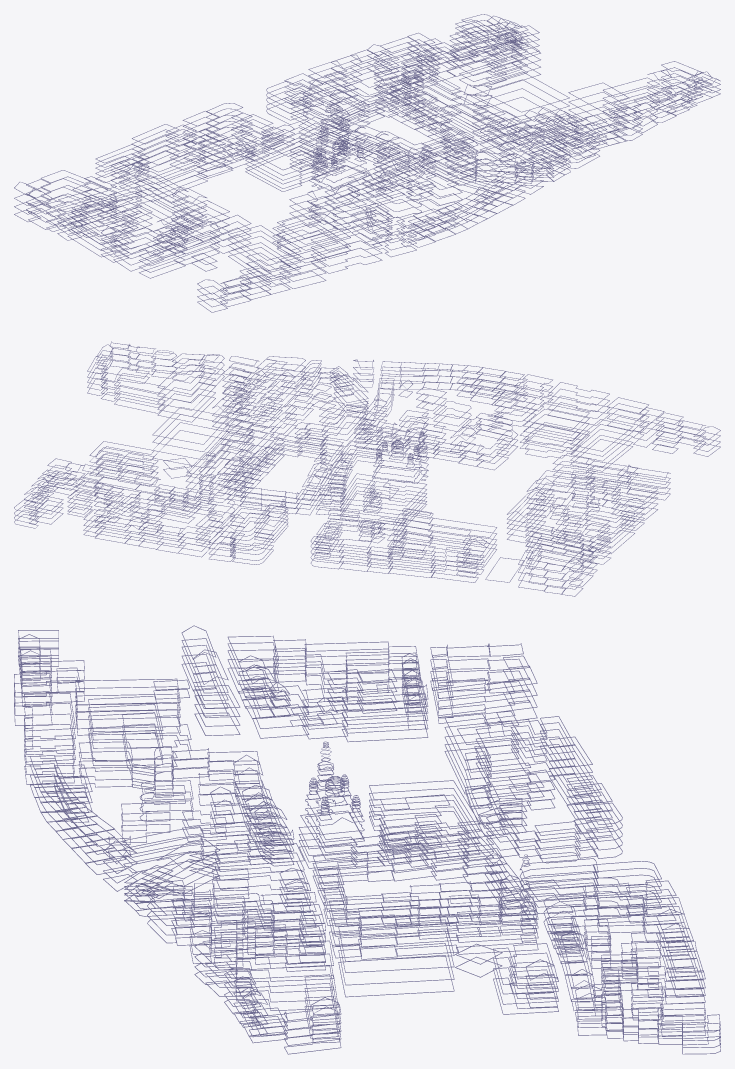
File: Sa_Ferhadija_Wireframe.fbx
3 renders of one model, top to bottom at view 1: azimuth 30°, elevation 25°; view 2: azimuth 150°, elevation 25°; view 3: azimuth 270°, elevation 25°, orthographic. The views are drawn at different scales.
Parts seen in each view (by area): view 1: Sa_Ferhadija_Wireframe; view 2: Sa_Ferhadija_Wireframe; view 3: Sa_Ferhadija_Wireframe.
Part boxes in pixels (x1,y1,x2,y2): Sa_Ferhadija_Wireframe: (14,14,720,312); Sa_Ferhadija_Wireframe: (14,341,720,596); Sa_Ferhadija_Wireframe: (14,625,720,1054).
Size of the model in its own units: 523 by 61.8 by 374.
